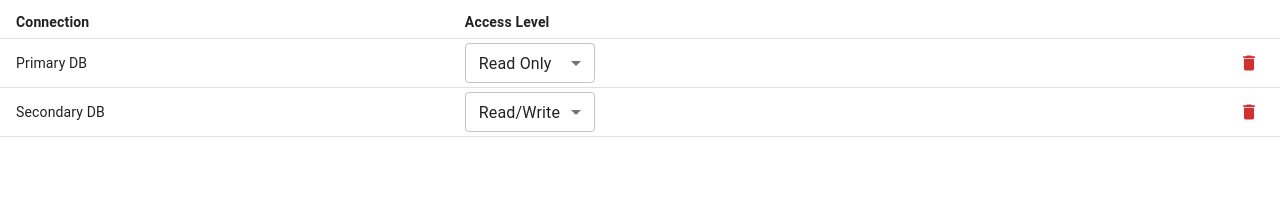
Test case: ConnectionScopeTable › shows Read/Write option when owner is superuser
Press the mouse on the dropdown labelled "Read Only": (515, 63) [479,54,552,72]
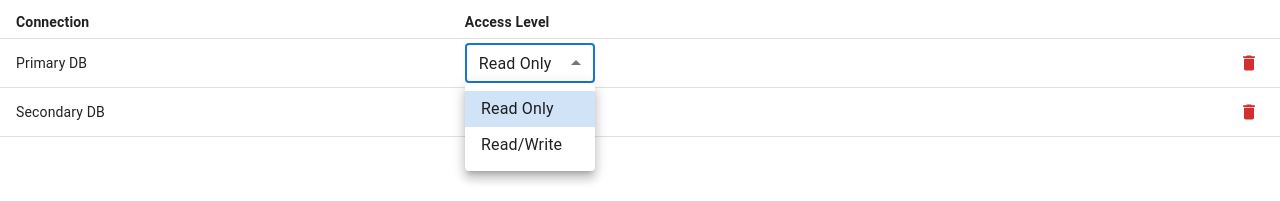
Expected: the option "Read Only" is shown, [465,91,595,127]
Expected: the option "Read/Write" is shown, [481,135,562,154]
